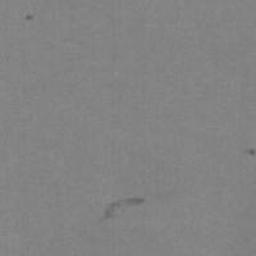Inclusion: (99, 197, 145, 222), (244, 148, 256, 156)
